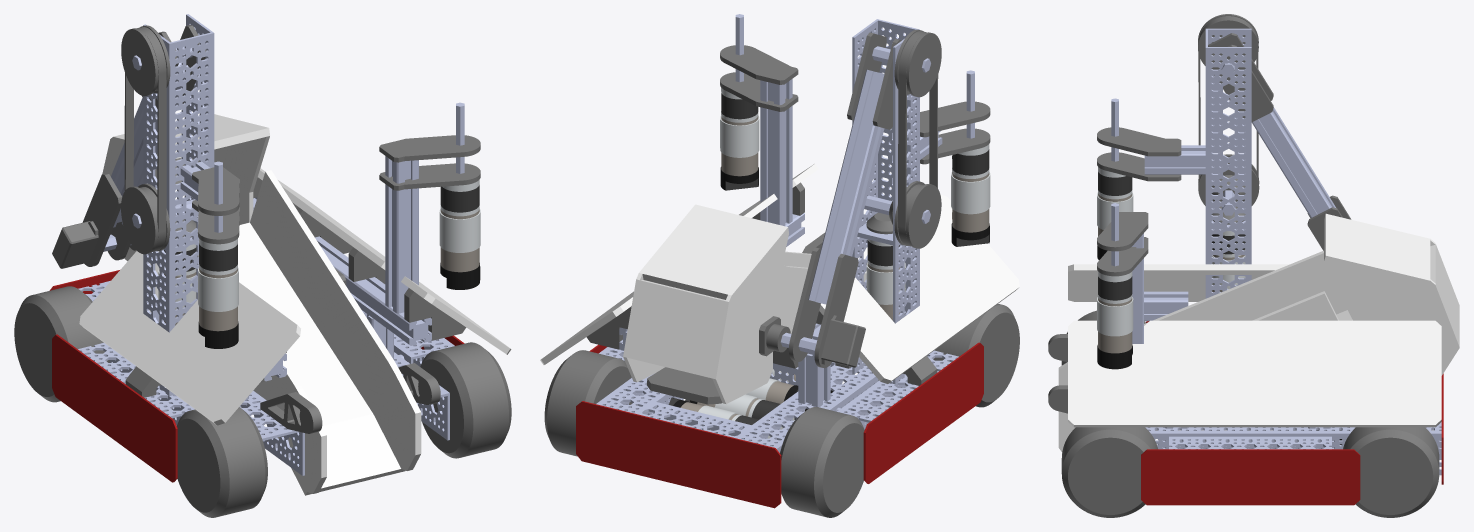
Rendered from Kraken_Pinion_Assembly_FBX.fbx.
3 renders of one model, left to right at view 1: azimuth 30°, elevation 25°; view 2: azimuth 150°, elevation 25°; view 3: azimuth 270°, elevation 25°, orthographic. The views are drawn at different scales.
Parts seen in each view (by area): view 1: Body1 (×8), Body57, Body11, Body64, Body21, Body33, Body2 (×2), Body36, Body50, Body72, Body15, Body77 (+19 smaller); view 2: Body1 (×8), Body2 (×7), Body57, Body59, Body36, Body60, Body33, Body61, Body22, Body54, Body50, Body21 (+21 smaller); view 3: Body77, Body1 (×6), Body5, Body2 (×3), Body20, Body28, Body60, Body57, Body54, Body11, Body45, Body44 (+14 smaller).
Boxes of the visible parts, box(x1,y1,x2,y2) form: Body1 (×8): box(78, 14, 511, 475); Body57: box(79, 251, 300, 425); Body11: box(250, 170, 421, 470); Body64: box(238, 222, 405, 495); Body21: box(177, 407, 267, 517); Body33: box(52, 334, 177, 482); Body2 (×2): box(198, 209, 480, 348); Body36: box(14, 286, 109, 402); Body50: box(385, 156, 418, 313); Body72: box(124, 27, 166, 251); Body15: box(253, 197, 431, 345); Body77: box(258, 168, 511, 354); Body1 (×8): box(596, 19, 989, 452); Body2 (×7): box(544, 115, 990, 456); Body57: box(819, 194, 1019, 383); Body59: box(576, 401, 781, 508); Body36: box(780, 407, 864, 517); Body60: box(642, 205, 784, 299); Body33: box(863, 342, 983, 483); Body61: box(626, 280, 725, 378); Body22: box(712, 226, 788, 403); Body54: box(808, 69, 884, 304); Body50: box(760, 79, 792, 226); Body21: box(933, 304, 1019, 407); Body77: box(1068, 320, 1441, 427); Body1 (×6): box(1061, 28, 1441, 517); Body5: box(1141, 449, 1360, 505); Body2 (×3): box(1097, 192, 1439, 517); Body20: box(1324, 254, 1459, 375); Body28: box(1058, 250, 1347, 385); Body60: box(1324, 215, 1430, 278); Body57: box(1068, 264, 1289, 301); Body54: box(1252, 107, 1335, 217); Body11: box(1058, 291, 1338, 452); Body45: box(1097, 127, 1181, 156); Body44: box(1144, 145, 1205, 174).
Bounding box in the file's own units: 12.52 × 17.39 × 16.89.
